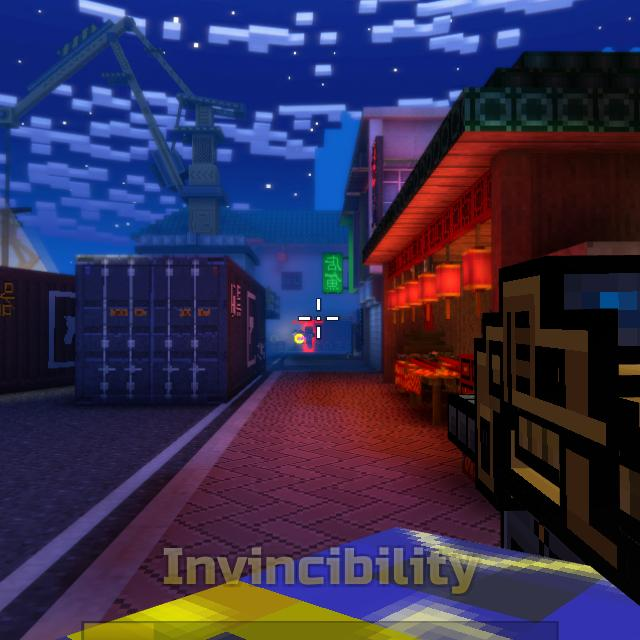Enemy: (303, 326, 318, 348)
